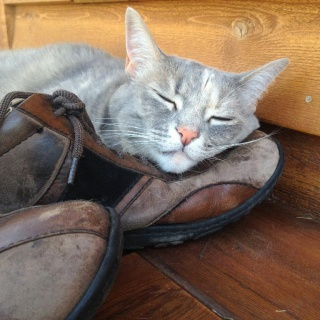Cat: (0, 2, 293, 179)
